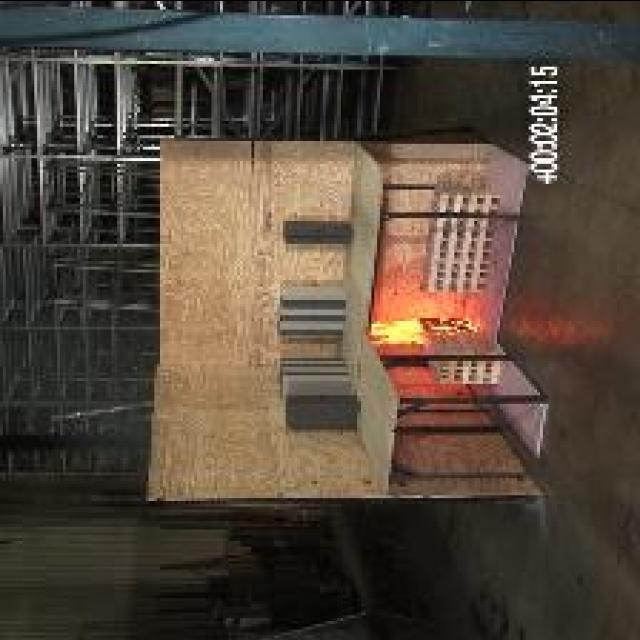Fire: (368, 317, 426, 343)
